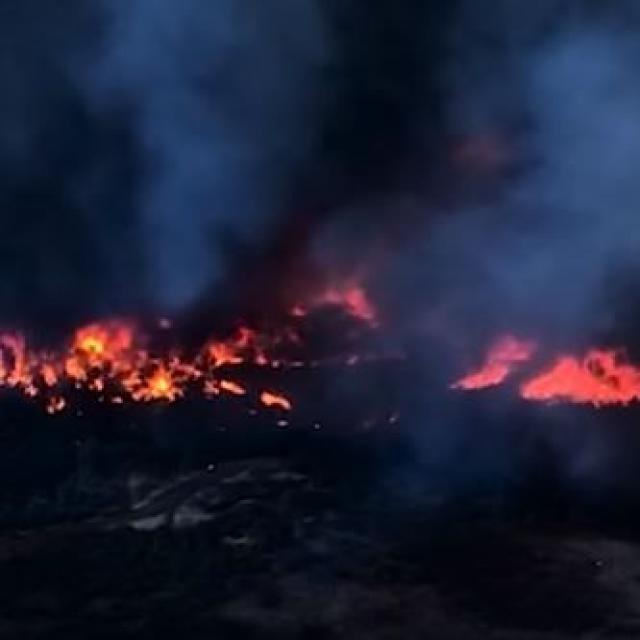Fire: (0, 311, 264, 417), (519, 343, 640, 416), (452, 340, 534, 401), (300, 276, 389, 330)
Smoke: (7, 0, 635, 329)
